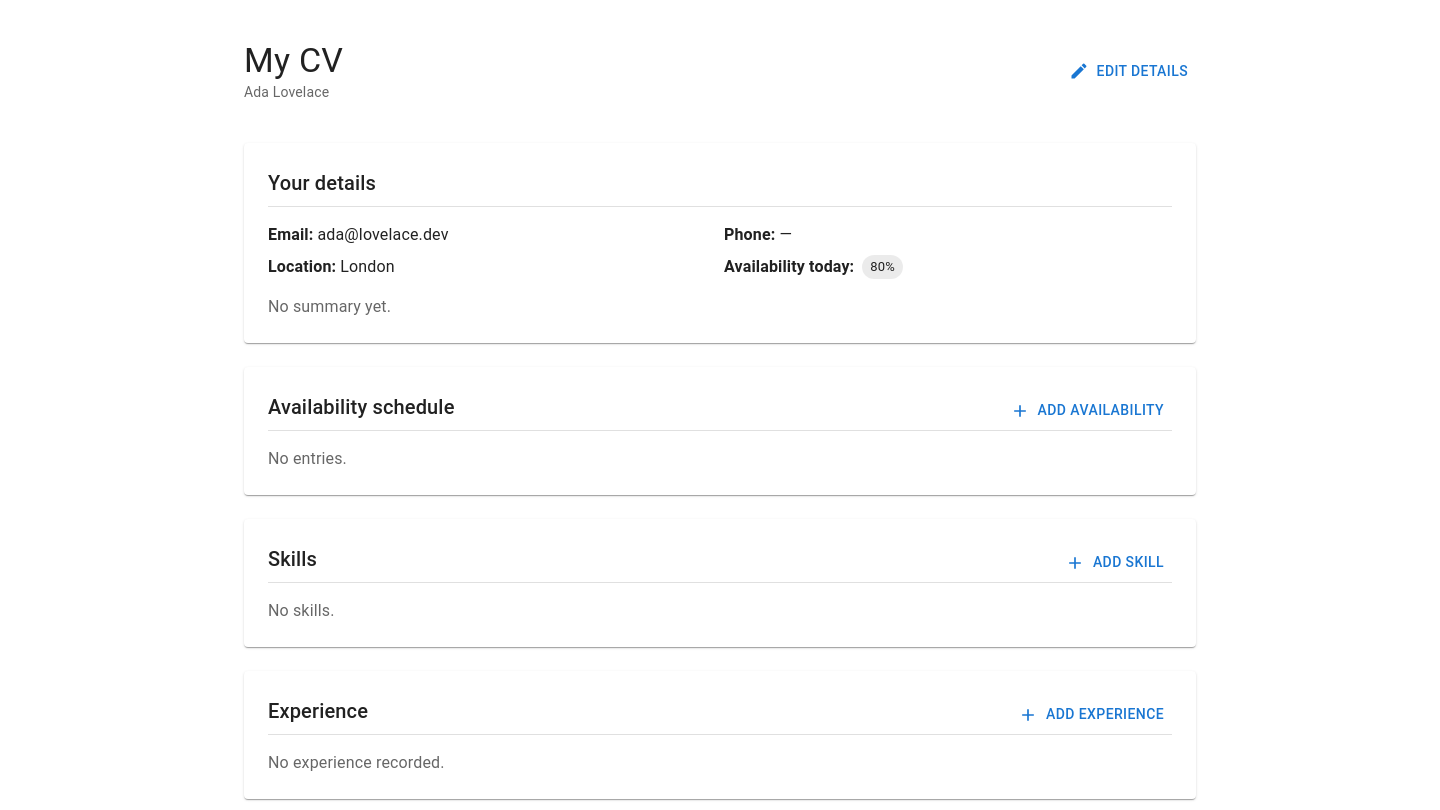
the Expert's own CV page (P1T-190) › locks the email field in their own edit dialog
Click the button "Edit details": [1130, 71] box [1065,53,1196,89]
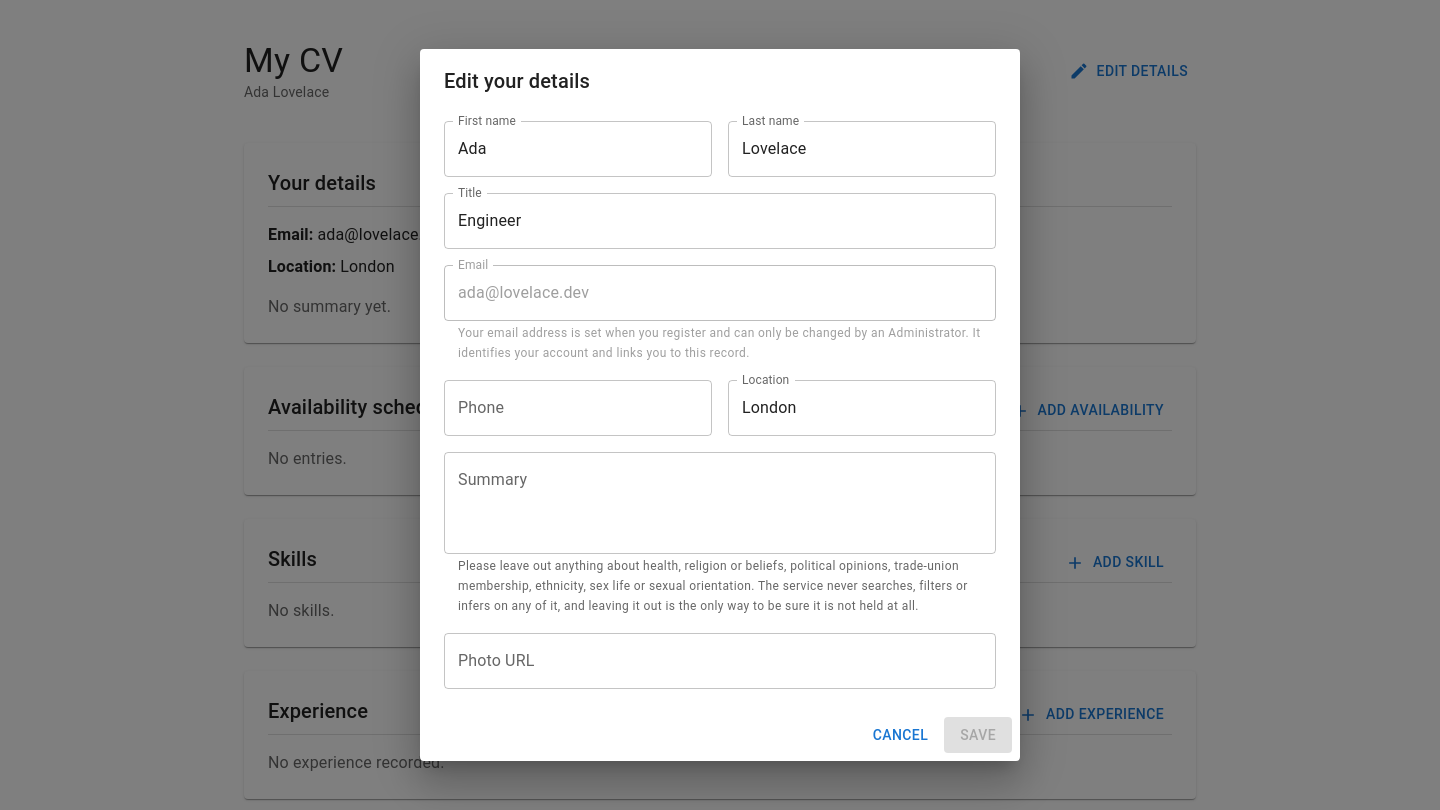
Result: the field labelled "Email" is disabled at [444,265,996,321]
Result: the text "can only be changed by an Administrator" is shown at [458,326,980,360]
